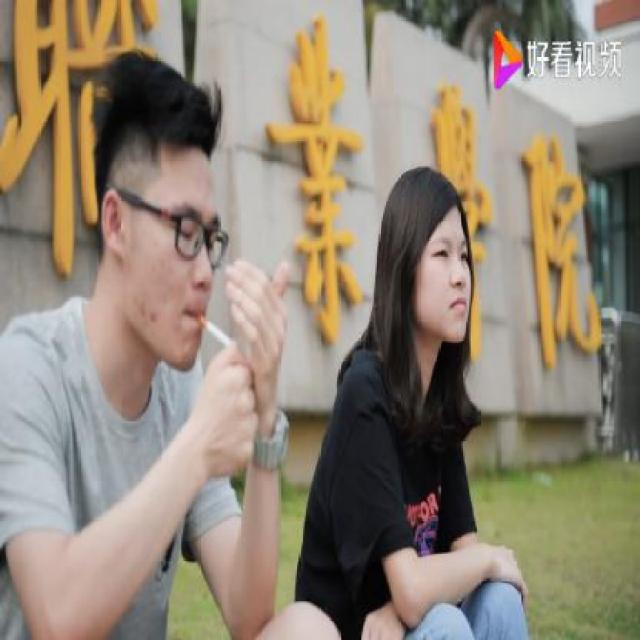smoke: (192, 300, 245, 366)
